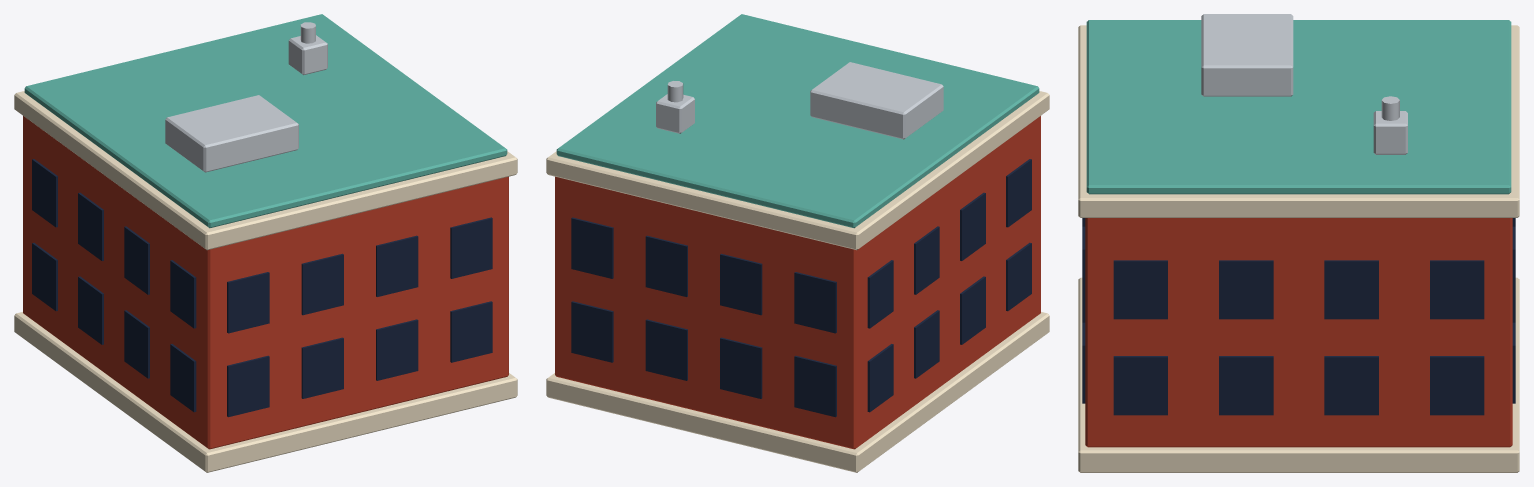
Rendered from building_near_a.obj.
3 views of the same model, side by side, from view 1: azimuth 30°, elevation 25°; view 2: azimuth 150°, elevation 25°; view 3: azimuth 270°, elevation 25° (orthographic). The views are drawn at different scales.
Parts seen in each view (by area): view 1: body, roof, plinth, cornice, roof_unit, win_a_zp_0, win_a_zp_2, win_b_zp_3, win_a_zp_3, win_b_zp_0, win_b_zp_1, win_b_zp_2 (+10 smaller); view 2: body, roof, plinth, cornice, roof_unit, win_a_zm_0, win_a_zm_2, win_b_zm_3, win_a_zm_3, win_b_zm_0, win_b_zm_1, win_b_zm_2 (+10 smaller); view 3: body, roof, cornice, plinth, roof_unit, win_a_xp_1, win_a_xp_2, win_b_xp_1, win_b_xp_2, win_a_xp_0, win_a_xp_3, win_b_xp_0 (+2 smaller).
Boxes of the visible parts, left/top/right/bottom form: body: left=23, top=116, right=508, bottom=449; roof: left=24, top=14, right=507, bottom=228; plinth: left=14, top=312, right=517, bottom=472; cornice: left=14, top=91, right=517, bottom=250; roof_unit: left=165, top=95, right=298, bottom=172; win_a_zp_0: left=227, top=355, right=269, bottom=417; win_a_zp_2: left=376, top=319, right=418, bottom=380; win_b_zp_3: left=450, top=217, right=492, bottom=278; win_a_zp_3: left=450, top=301, right=492, bottom=362; win_b_zp_0: left=227, top=272, right=269, bottom=333; win_b_zp_1: left=301, top=253, right=343, bottom=315; win_b_zp_2: left=376, top=235, right=418, bottom=296; body: left=555, top=116, right=1040, bottom=449; roof: left=556, top=14, right=1039, bottom=228; plinth: left=546, top=312, right=1049, bottom=472; cornice: left=546, top=91, right=1049, bottom=250; roof_unit: left=810, top=62, right=943, bottom=139; win_a_zm_0: left=794, top=355, right=836, bottom=417; win_a_zm_2: left=645, top=319, right=687, bottom=380; win_b_zm_3: left=571, top=217, right=613, bottom=278; win_a_zm_3: left=571, top=301, right=613, bottom=362; win_b_zm_0: left=794, top=272, right=836, bottom=333; win_b_zm_1: left=720, top=253, right=762, bottom=315; win_b_zm_2: left=645, top=235, right=687, bottom=296; body: left=1085, top=218, right=1512, bottom=447; roof: left=1086, top=20, right=1511, bottom=194; cornice: left=1078, top=25, right=1519, bottom=217; plinth: left=1078, top=277, right=1519, bottom=472; roof_unit: left=1201, top=14, right=1293, bottom=96; win_a_xp_1: left=1324, top=356, right=1378, bottom=415; win_a_xp_2: left=1219, top=356, right=1273, bottom=415; win_b_xp_1: left=1324, top=260, right=1378, bottom=319; win_b_xp_2: left=1219, top=260, right=1273, bottom=319; win_a_xp_0: left=1430, top=356, right=1484, bottom=415; win_a_xp_3: left=1113, top=356, right=1167, bottom=415; win_b_xp_0: left=1430, top=260, right=1484, bottom=319.
Bounding box in the file's own units: 7.2 × 6.4 × 7.7.
